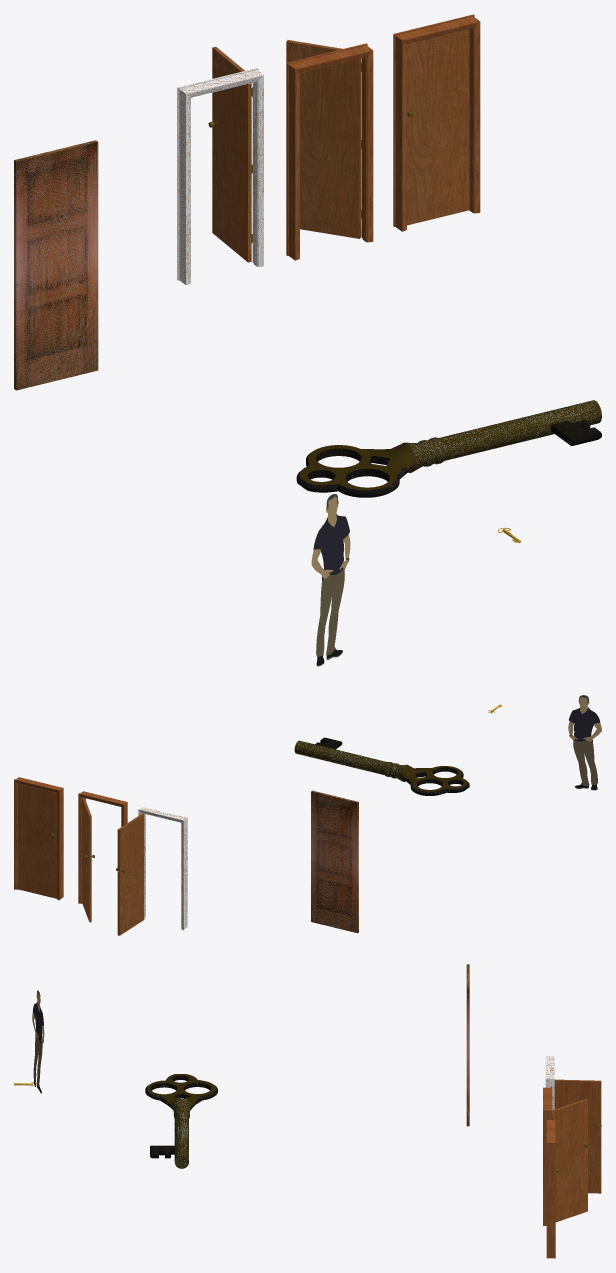
File: item.fbx
The picture shows the model from 3 angles, top to bottom: view 1: azimuth 30°, elevation 25°; view 2: azimuth 150°, elevation 25°; view 3: azimuth 270°, elevation 25°; orthographic projection. The views are drawn at different scales.
Parts seen in each view (by area): view 1: RW_3_36_x_96_Door1, Group5, Group13, Key1, Group18, Group9, Group2, Group15, Chris1; view 2: RW_3_36_x_96_Door1, Group5, Key1, Group18, Chris1, Group2, Group15, Group13, Group9; view 3: Group13, Key1, Group18, Group2, Chris1, Group9, RW_3_36_x_96_Door1.
Part boxes in pixels (x1,y1,x2,y2): RW_3_36_x_96_Door1: [14, 140, 98, 390]; Group5: [407, 29, 469, 225]; Group13: [286, 40, 361, 238]; Key1: [296, 400, 601, 497]; Group18: [212, 46, 251, 262]; Group9: [286, 43, 373, 260]; Group2: [393, 14, 480, 231]; Group15: [177, 68, 263, 285]; Chris1: [311, 494, 350, 666]; RW_3_36_x_96_Door1: [311, 790, 358, 933]; Group5: [18, 783, 56, 898]; Key1: [294, 737, 469, 795]; Group18: [117, 813, 144, 935]; Chris1: [568, 695, 601, 790]; Group2: [14, 777, 63, 900]; Group15: [138, 807, 187, 930]; Group13: [82, 797, 91, 922]; Group9: [78, 791, 127, 903]; Group13: [552, 1099, 587, 1222]; Key1: [145, 1074, 217, 1168]; Group18: [554, 1079, 601, 1193]; Group2: [546, 1119, 555, 1258]; Chris1: [32, 990, 44, 1093]; Group9: [543, 1086, 552, 1225]; RW_3_36_x_96_Door1: [466, 964, 469, 1126].
Size of the model in its own units: 6.65 by 2.44 by 9.43.
